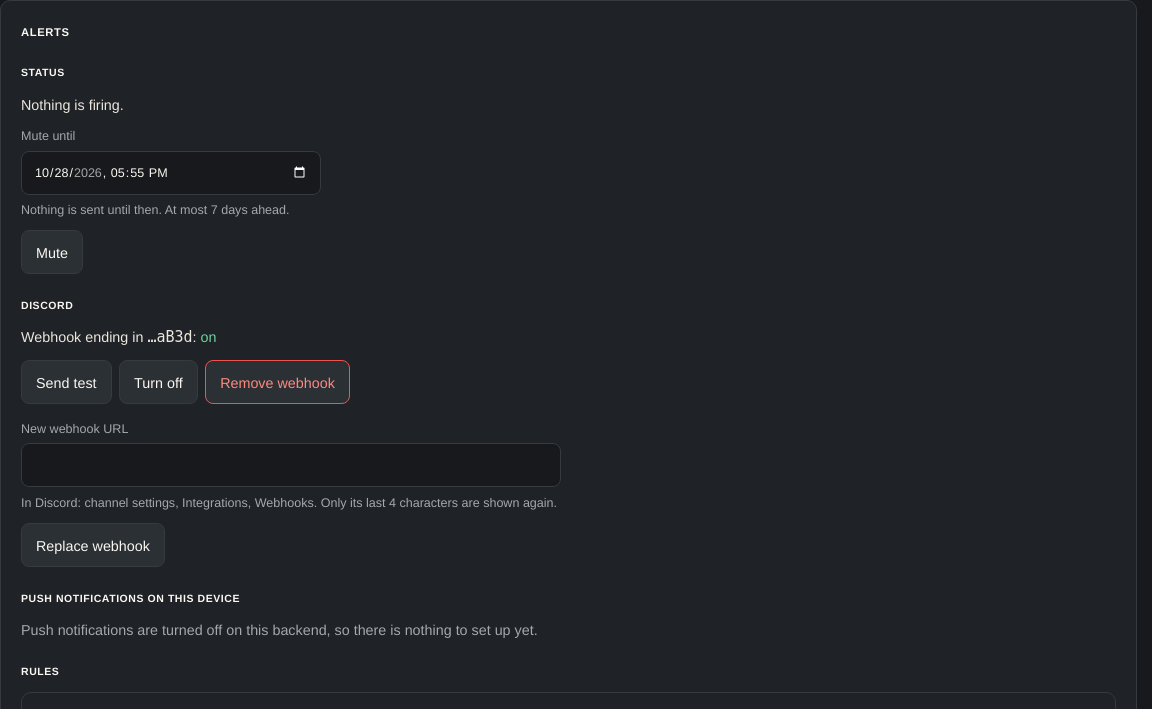
Scenario: the Discord controls › asks for a URL before sending anything
The width and height of the screenshot is (1152, 709).
Click the button "Replace webhook".
click(93, 545)  # box left=21, top=523, right=165, bottom=567
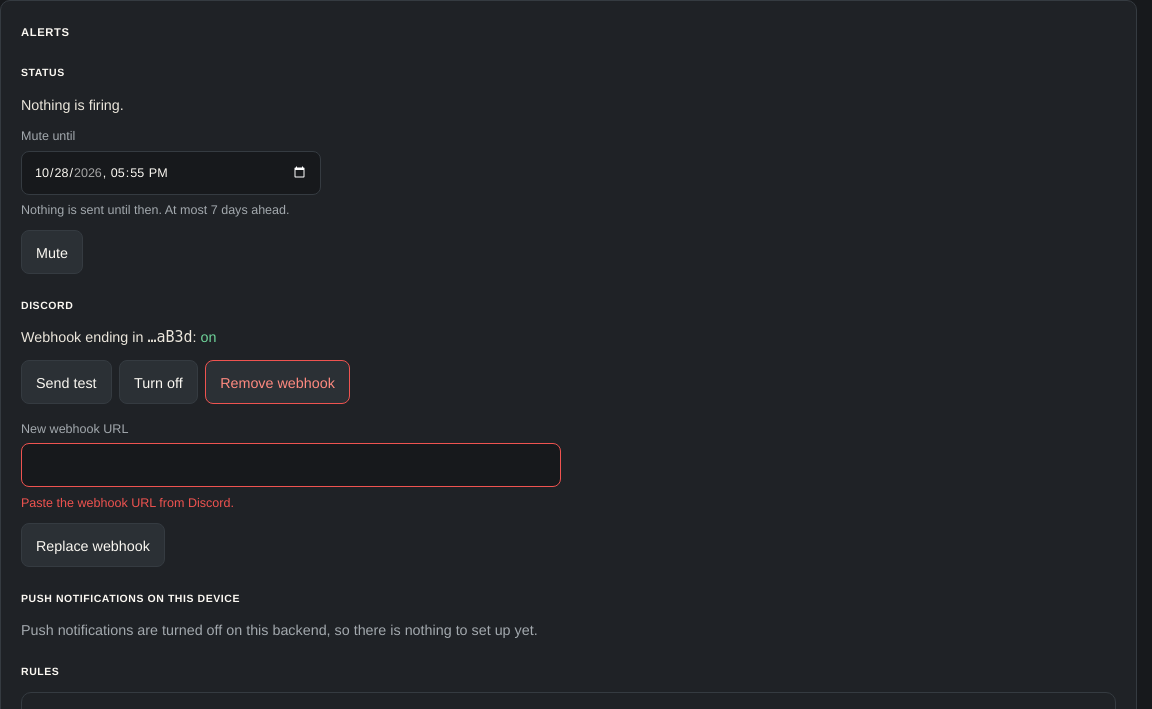
Expected: the text "Paste the webhook URL from Discord." is shown, left=21, top=494, right=234, bottom=510
